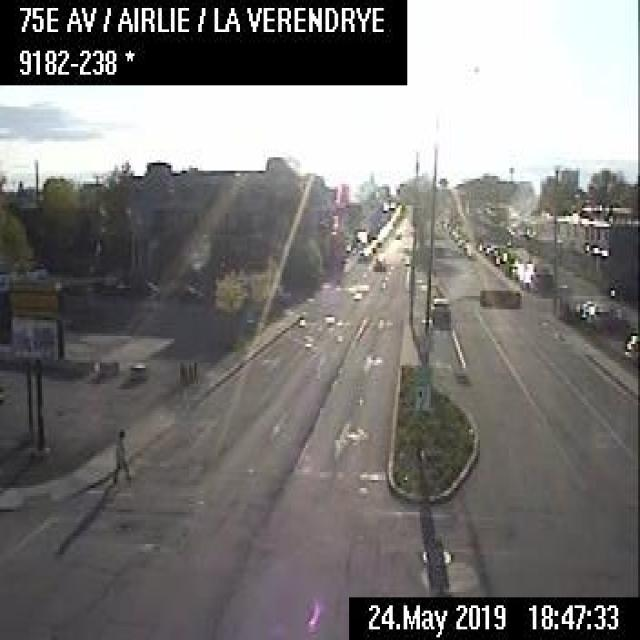construction: (178, 359, 187, 384), (186, 361, 193, 382), (191, 360, 197, 382)
pedestrian: (109, 424, 133, 491)
vehicle: (587, 302, 623, 330), (623, 330, 638, 363), (354, 244, 372, 260), (371, 256, 384, 269)
